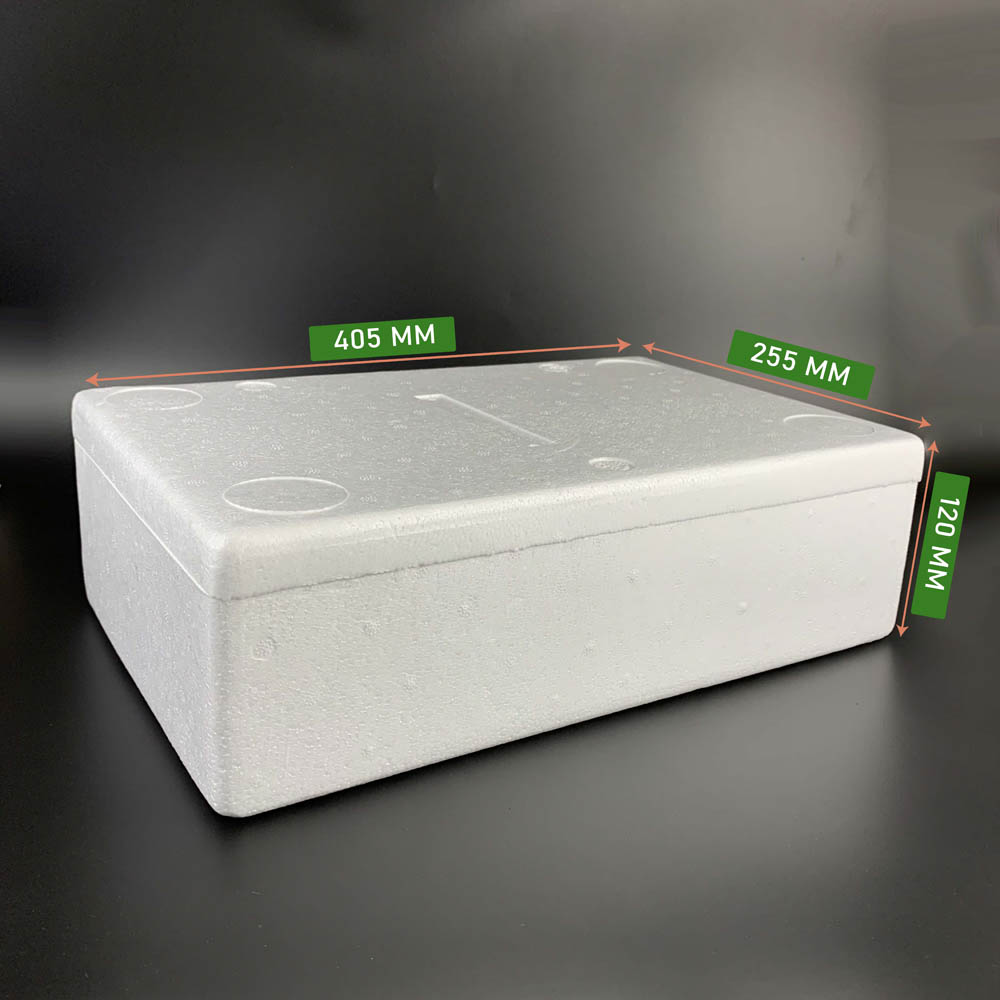good-parcel: (72, 357, 923, 816)
